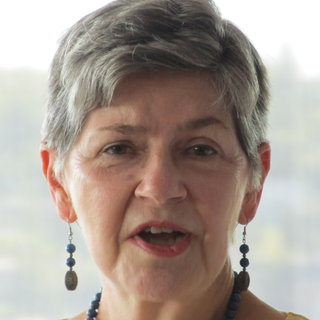eye: (94, 138, 142, 163), (176, 139, 223, 164)
